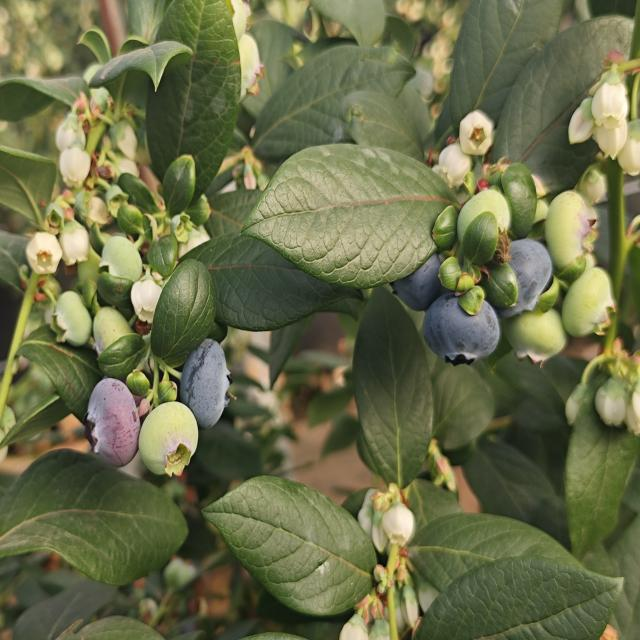ripe: (417, 267, 500, 355), (80, 373, 142, 456), (382, 244, 448, 311), (187, 332, 230, 424), (493, 229, 546, 295)
